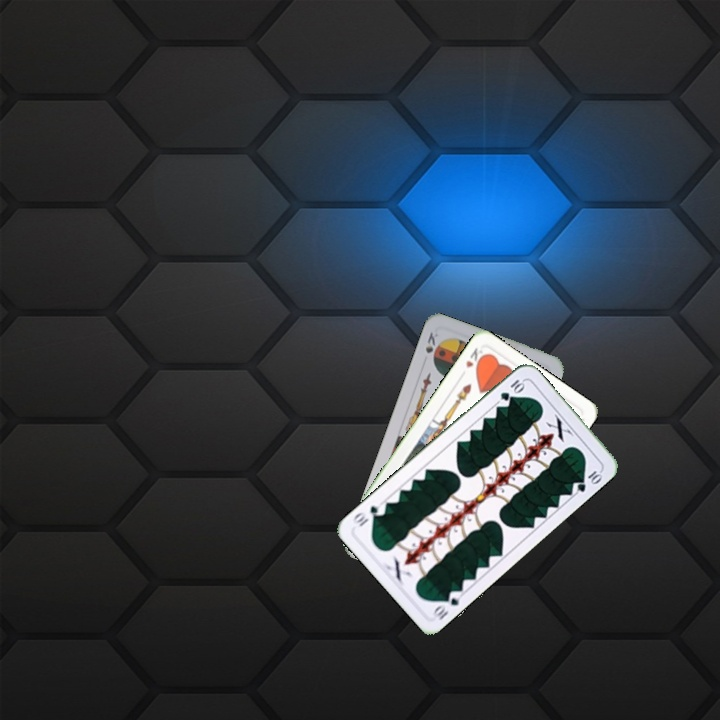G10: (428, 586, 465, 623), (496, 375, 527, 404)
HK: (462, 343, 488, 372)
SK: (421, 328, 442, 356)
